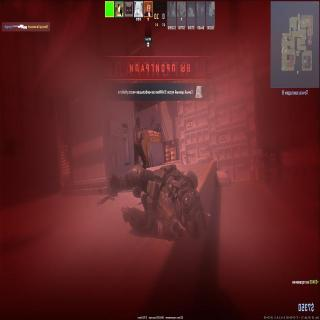CT-Body: (106, 167, 206, 230)
CT-Head: (174, 185, 206, 233)
T-Body: (132, 116, 146, 170)
T-Head: (135, 118, 141, 129)
